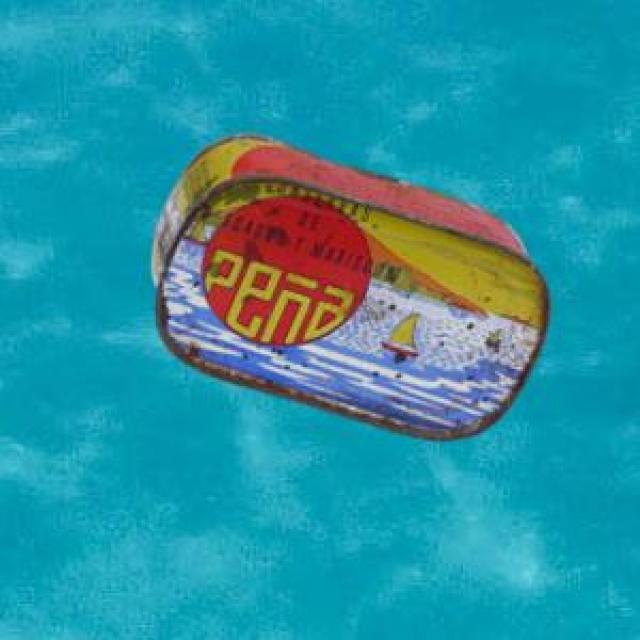Can: (148, 131, 547, 436)
